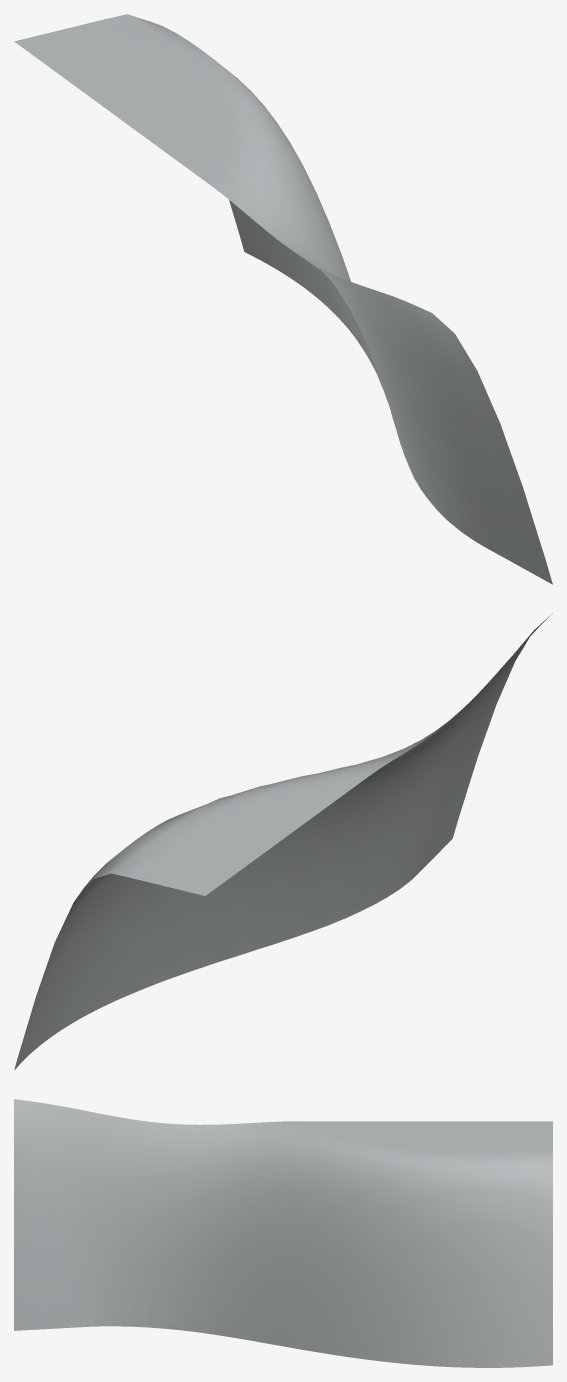
File: alpine-12-3.glb
3 renders of one model, top to bottom at view 1: azimuth 30°, elevation 25°; view 2: azimuth 150°, elevation 25°; view 3: azimuth 270°, elevation 25°, orthographic. The views are drawn at different scales.
Visible parts, largest first — view 1: alpine-12-3; view 2: alpine-12-3; view 3: alpine-12-3.
Part boxes in pixels (x1=…): alpine-12-3: x1=14, y1=14, x2=552, y2=584; alpine-12-3: x1=14, y1=613, x2=552, y2=1070; alpine-12-3: x1=14, y1=1099, x2=552, y2=1367.
Size of the model in its own units: 84.25 by 102 by 256.
Materials: 1 (1 with a texture image).
